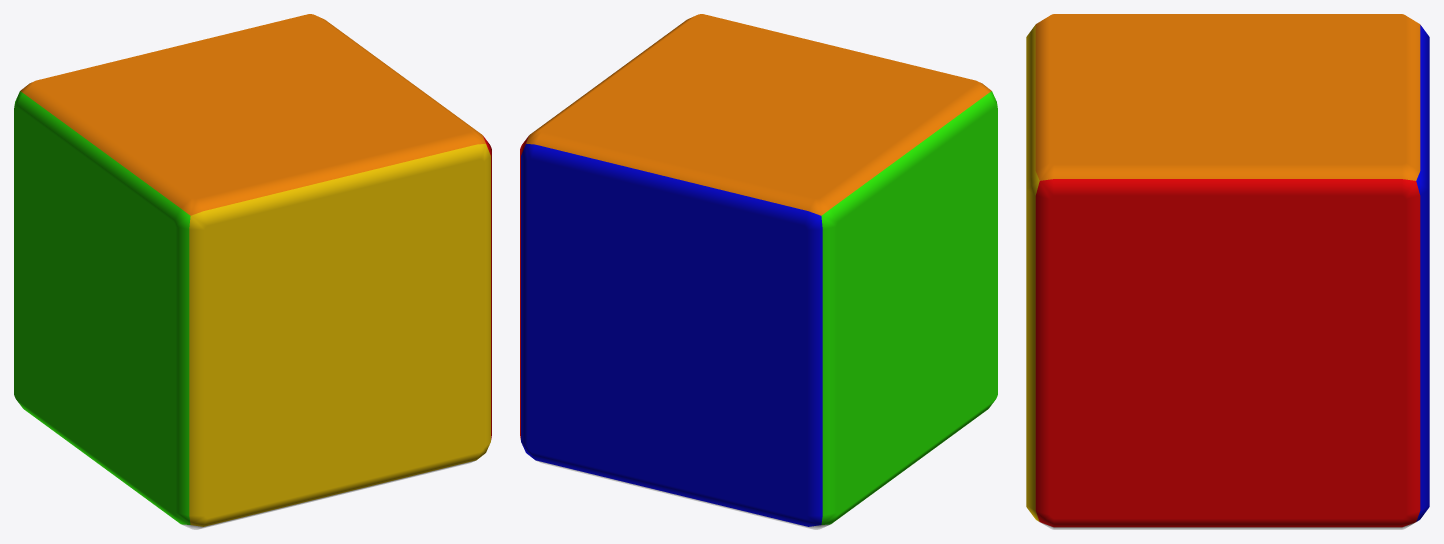
Rendered from rubikCubeIndividual.fbx.
3 views of the same model, side by side, from view 1: azimuth 30°, elevation 25°; view 2: azimuth 150°, elevation 25°; view 3: azimuth 270°, elevation 25° (orthographic). The views are drawn at different scales.
Parts seen in each view (by area): view 1: Cube; view 2: Cube; view 3: Cube.
Part boxes in pixels (x1,y1,x2,y2): Cube: [14, 14, 491, 529]; Cube: [520, 14, 997, 529]; Cube: [1026, 14, 1429, 529].
Bounding box in the file's own units: 100 × 100 × 100.
